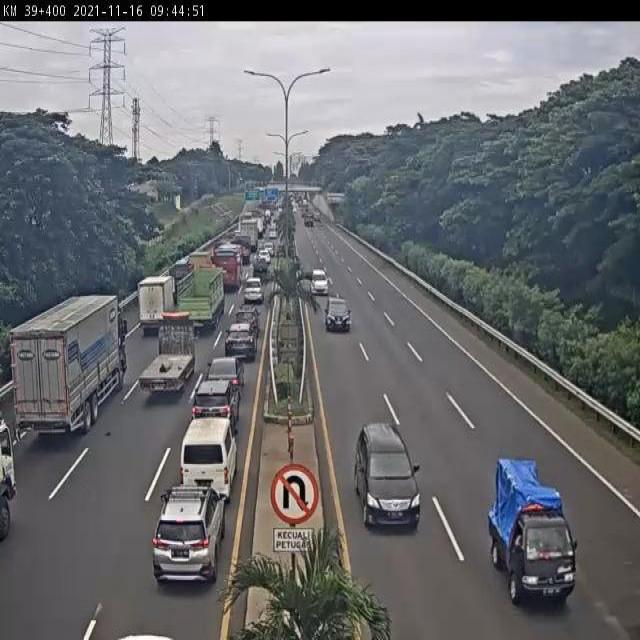big bus: (207, 247, 244, 296)
car: (486, 455, 578, 604), (356, 423, 422, 533), (150, 490, 222, 586), (188, 382, 236, 447), (205, 355, 246, 396), (223, 327, 255, 365), (324, 294, 354, 334), (236, 302, 263, 334), (241, 276, 266, 304)
small bus: (183, 419, 238, 500)
small truck: (182, 253, 211, 296)
truck-l-: (7, 291, 129, 441), (171, 265, 226, 339)
truck-m-: (136, 320, 194, 395), (139, 276, 178, 339)
